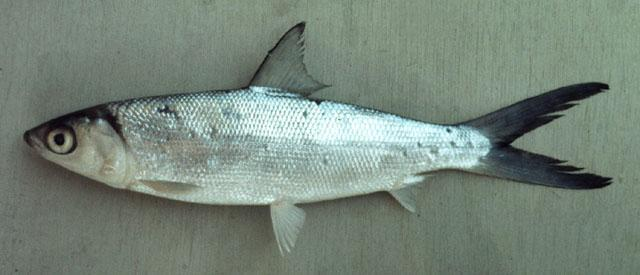Mulut: (1, 114, 58, 170)
Sirip Anal: (380, 171, 430, 223)
Sirip Dada: (132, 168, 208, 208)
Sirip Ekor: (453, 75, 627, 211)
Sirip Perut: (266, 196, 316, 262)
Sirip Punggung: (246, 16, 336, 107)
